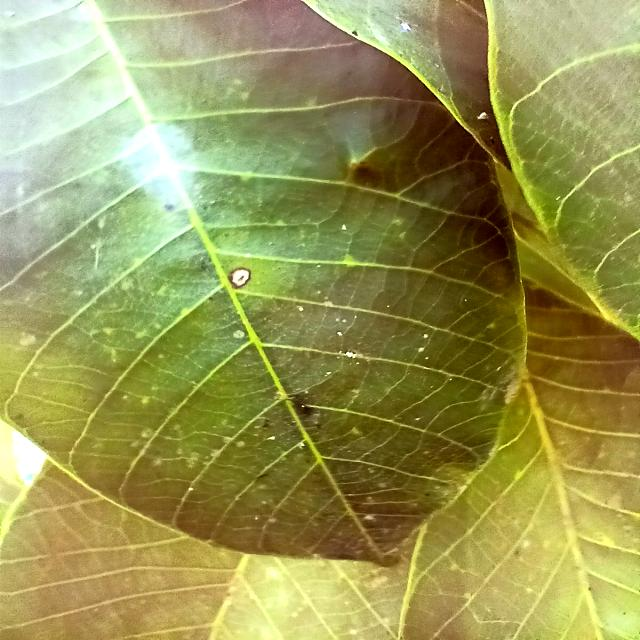Colletotrichum: (228, 268, 251, 288)
